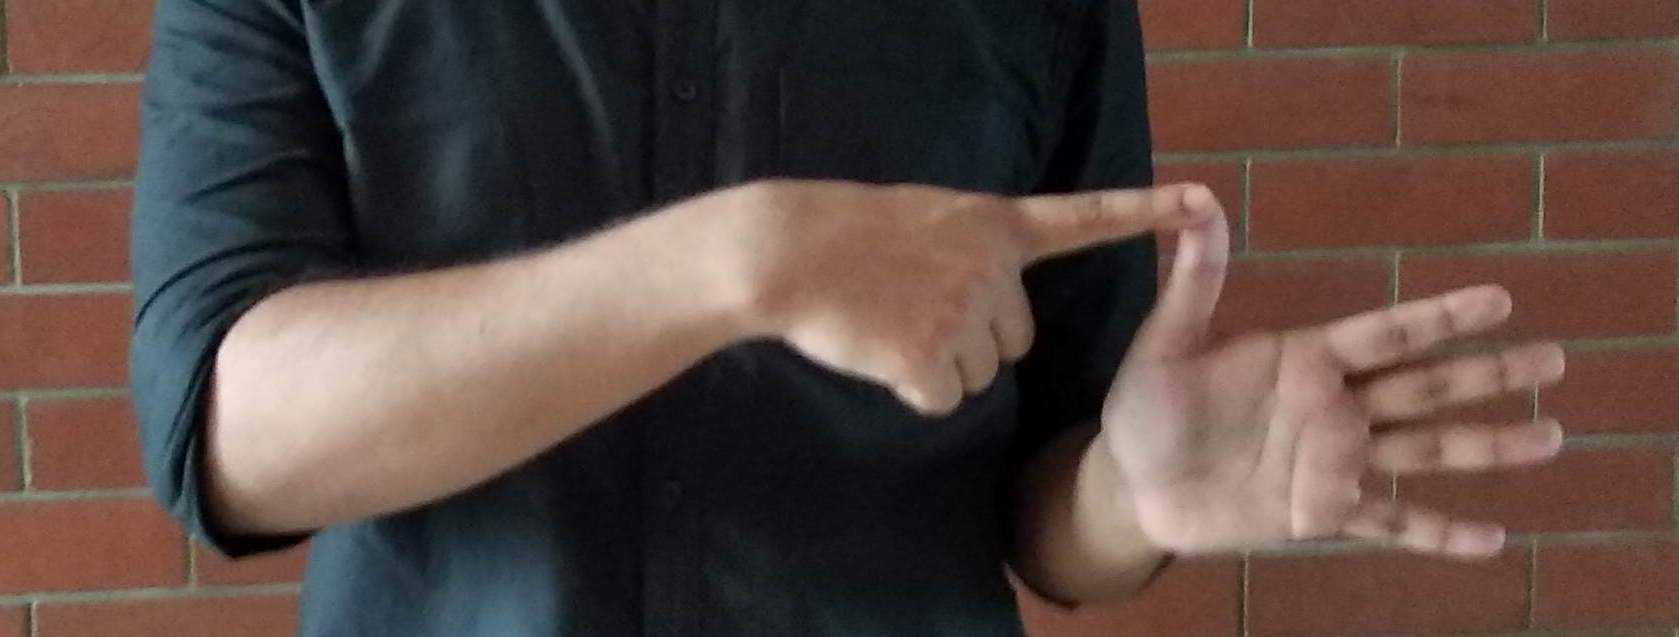a: (788, 164, 1588, 565)
